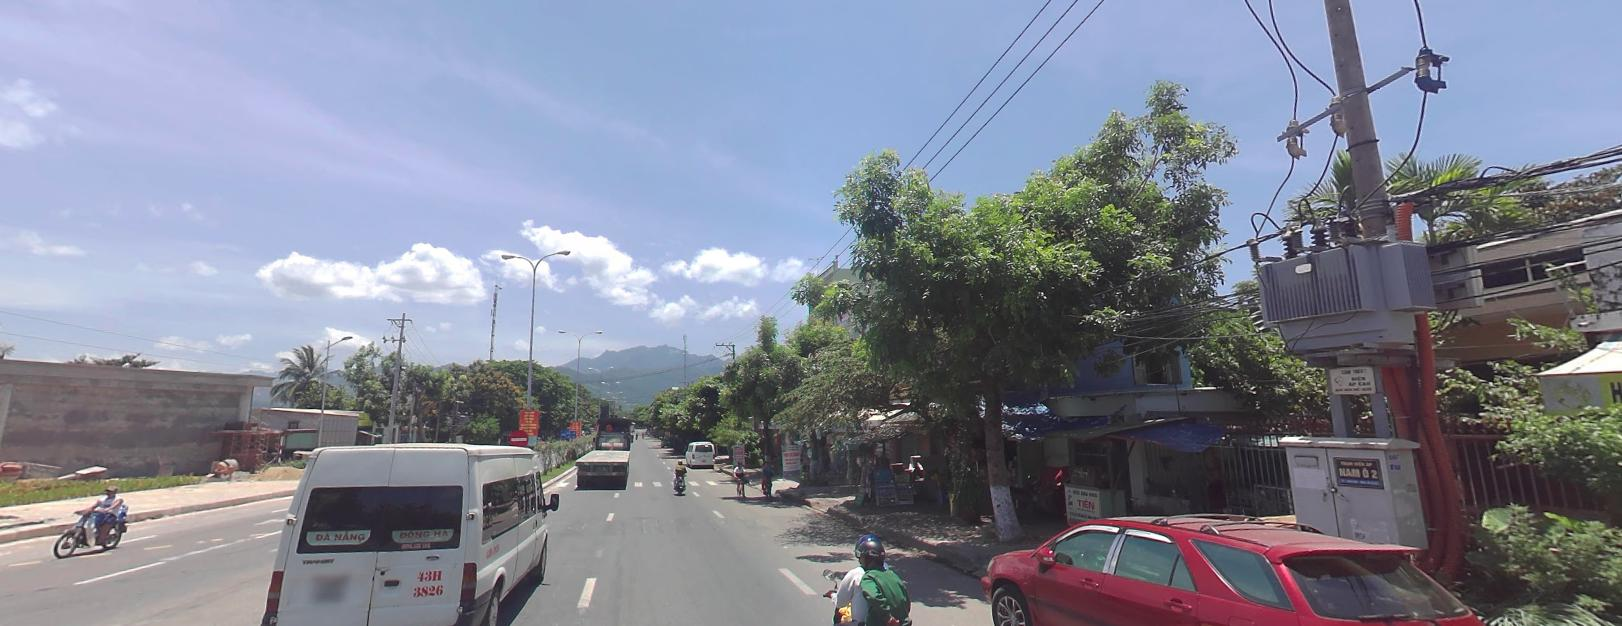Cam nguoc chieu: (508, 428, 529, 447)
